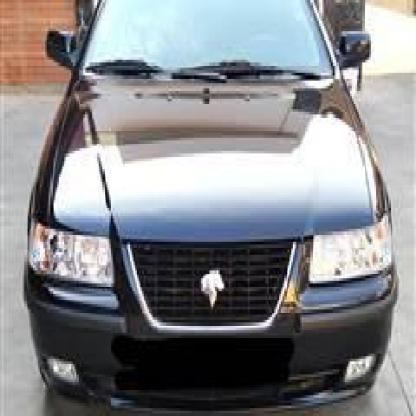Car: (10, 0, 409, 416)
